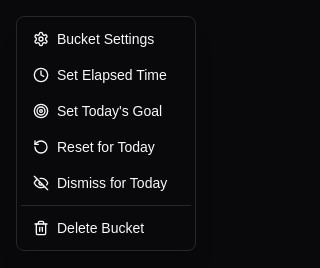
Test: BucketContextMenu › switches to setGoal view when "Set Today's Goal" is clicked
The image size is (320, 268).
Click the menu item "Set Today's Goal" at coordinates (106, 111), box [21,93,191,129]
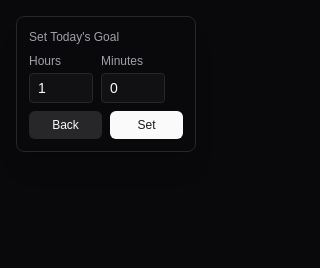
Result: the menu item "Bucket Settings" is gone
Result: the text "Hours" is shown at [29,54,61,68]
Result: the text "Minutes" is shown at [101,54,143,68]
